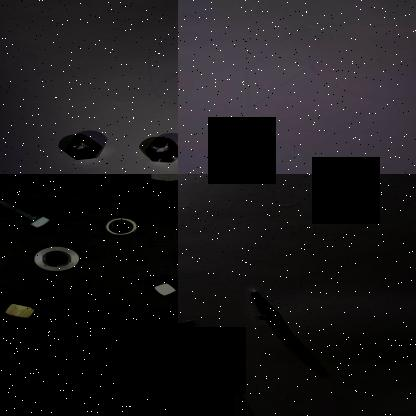Bolts: (105, 311, 175, 367), (0, 191, 65, 234), (248, 288, 280, 324), (178, 316, 204, 350)
NUTS: (29, 243, 86, 277), (0, 291, 62, 320), (101, 214, 142, 240), (62, 136, 106, 160), (142, 138, 178, 164), (147, 275, 178, 299)
